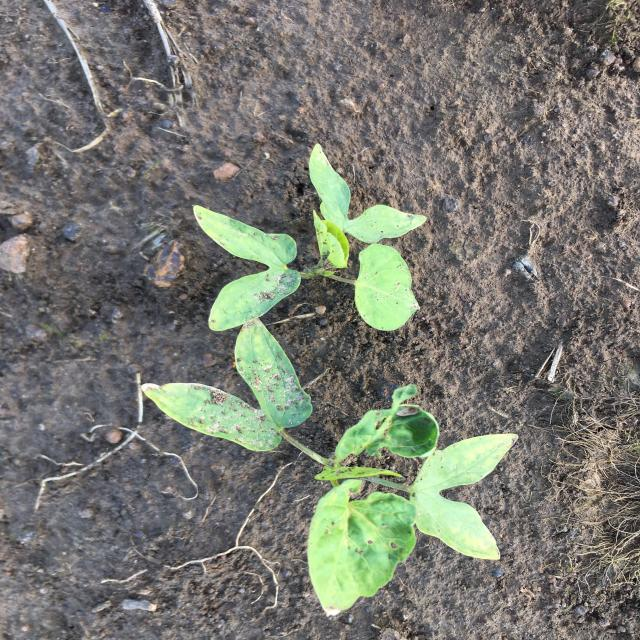MorningGlory: (142, 317, 519, 610), (193, 143, 427, 331)
